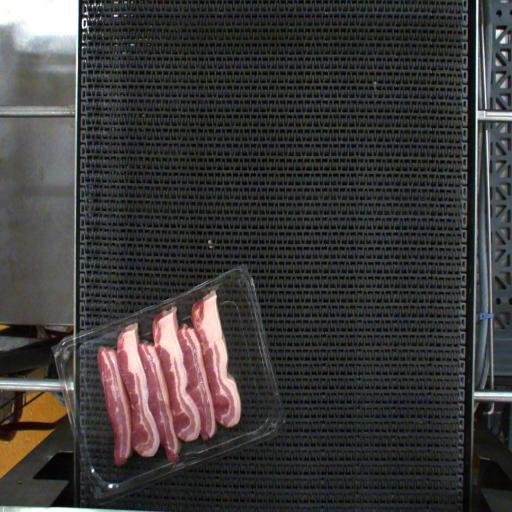packaging-error: (200, 275, 225, 307)
